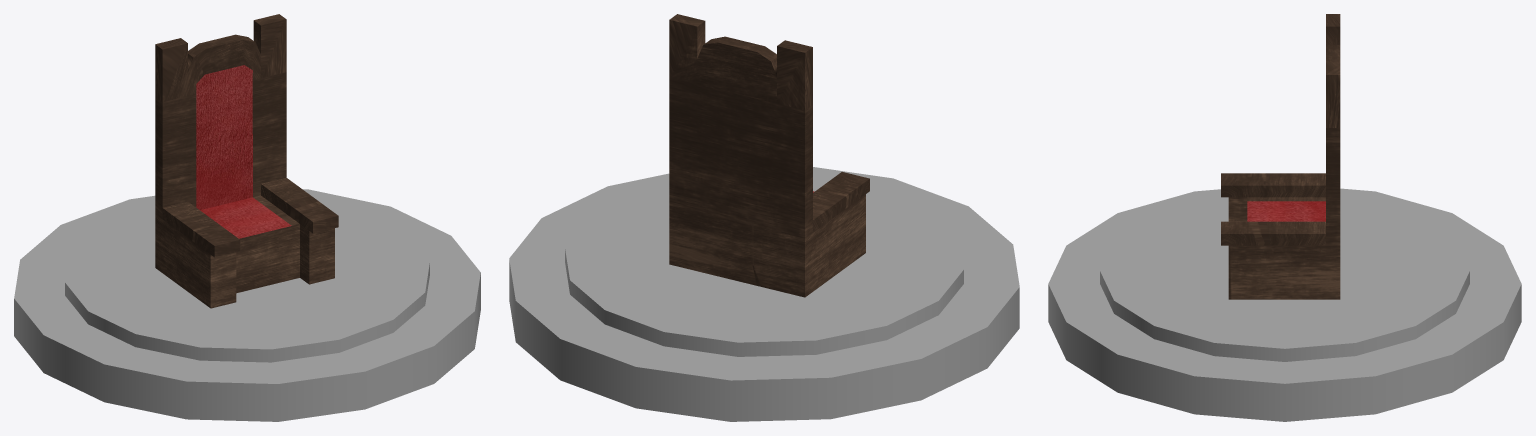
File: placeholder_throne.fbx
3 renders of one model, left to right at view 1: azimuth 30°, elevation 25°; view 2: azimuth 150°, elevation 25°; view 3: azimuth 270°, elevation 25°, orthographic. The views are drawn at different scales.
Parts seen in each view (by area): view 1: pCylinder2, throne1, pCylinder1; view 2: pCylinder2, throne1, pCylinder1; view 3: pCylinder2, pCylinder1, throne1.
Part boxes in pixels (x1,y1,x2,y2): pCylinder2: [14, 189, 480, 421]; throne1: [155, 14, 338, 308]; pCylinder1: [65, 202, 429, 362]; pCylinder2: [509, 167, 1019, 421]; throne1: [669, 14, 869, 297]; pCylinder1: [565, 177, 963, 356]; pCylinder2: [1048, 188, 1521, 421]; pCylinder1: [1100, 197, 1469, 361]; throne1: [1221, 14, 1340, 299].
Size of the model in its own units: 771 by 496 by 771.
